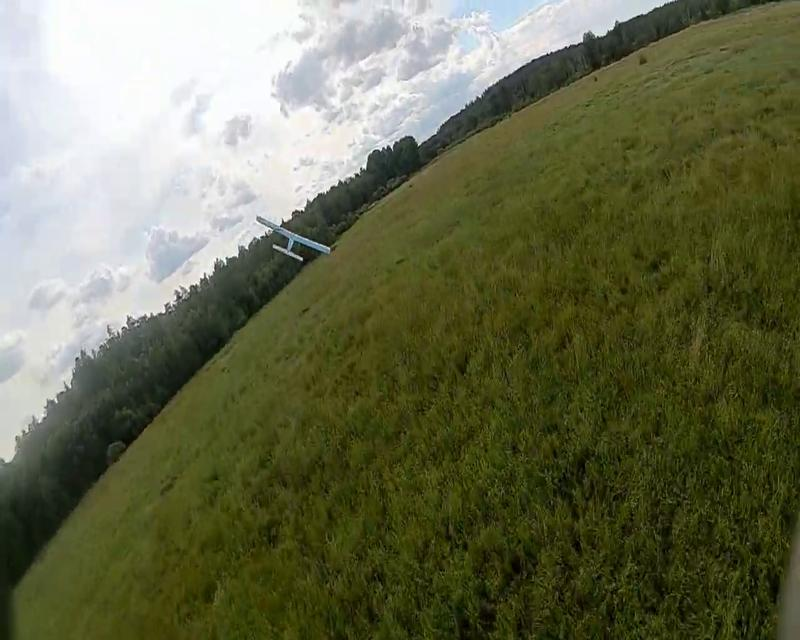UAV: (256, 216, 331, 262)
